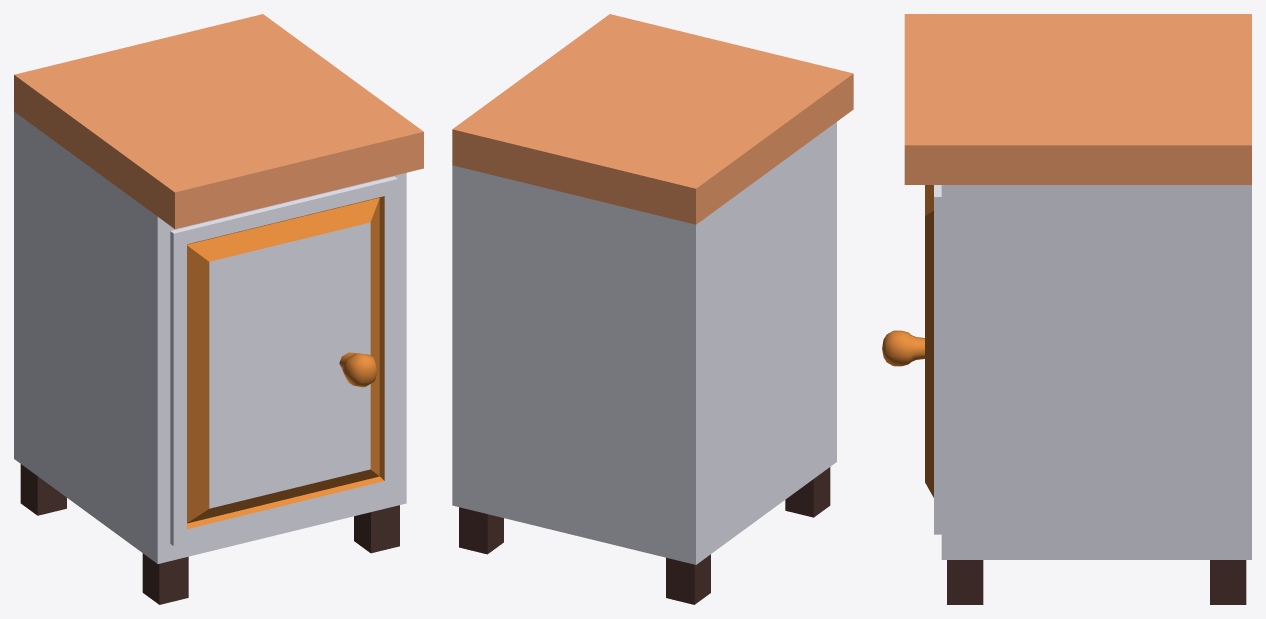
File: Prop_KitchenCabinet_01_B.fbx
3 views of the same model, side by side, from view 1: azimuth 30°, elevation 25°; view 2: azimuth 150°, elevation 25°; view 3: azimuth 270°, elevation 25° (orthographic). The views are drawn at different scales.
Parts seen in each view (by area): view 1: Prop_KitchenCabinet_01_B; view 2: Prop_KitchenCabinet_01_B; view 3: Prop_KitchenCabinet_01_B.
Boxes of the visible parts, <box> form: Prop_KitchenCabinet_01_B: <box>14,14,423,604</box>; Prop_KitchenCabinet_01_B: <box>452,14,853,604</box>; Prop_KitchenCabinet_01_B: <box>882,14,1251,604</box>.
Bounding box in the file's own units: 60 × 98.53 × 71.49.
